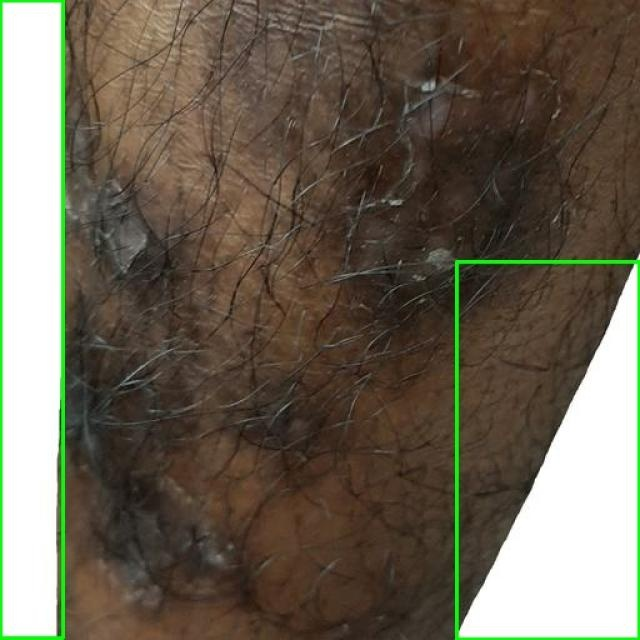Eczema: (456, 261, 639, 639), (0, 0, 62, 639)
